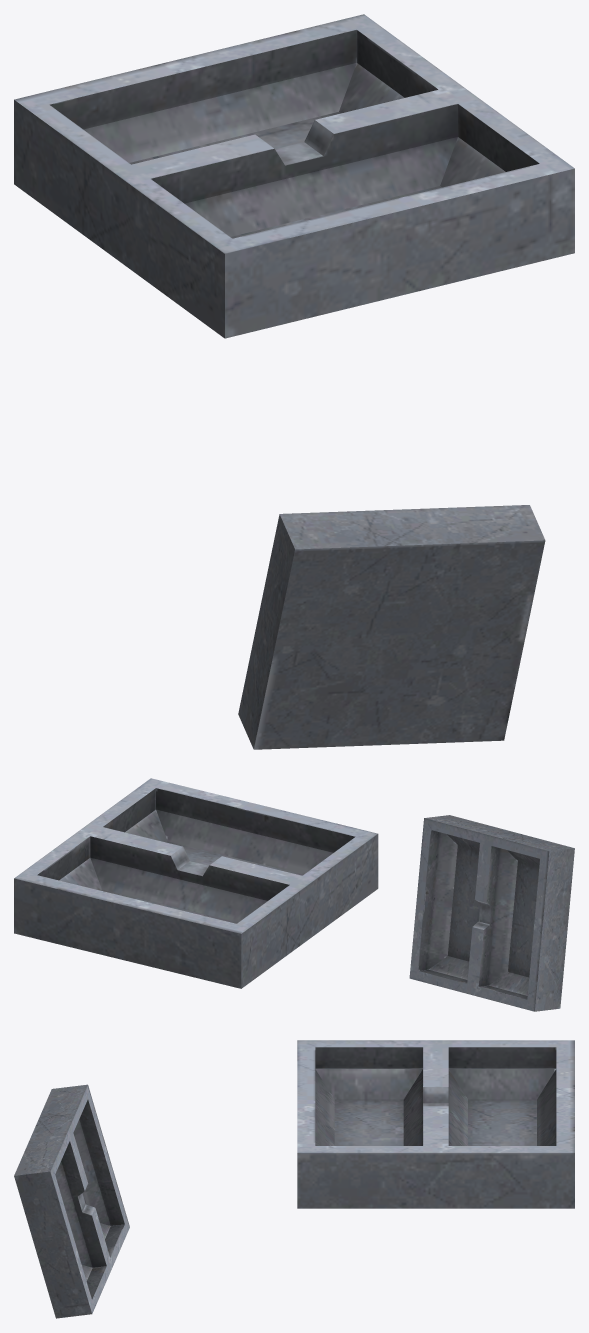
The model's file is DoubleIngotMold.glb.
3 views of the same model, one above another, from view 1: azimuth 30°, elevation 25°; view 2: azimuth 150°, elevation 25°; view 3: azimuth 270°, elevation 25° (orthographic). The views are drawn at different scales.
Visible parts, largest first — view 1: WorldModel, castingmold; view 2: WorldModel, castingmold; view 3: WorldModel, castingmold.
Boxes of the visible parts, left/top/right/bottom form: WorldModel: left=14, top=14, right=574, bottom=338; castingmold: left=238, top=505, right=545, bottom=749; WorldModel: left=14, top=778, right=378, bottom=988; castingmold: left=409, top=815, right=574, bottom=1011; WorldModel: left=297, top=1040, right=574, bottom=1208; castingmold: left=14, top=1084, right=129, bottom=1318.
Size of the model in its own units: 0.7407 by 0.5592 by 1.15.
Materials: 1 (1 with a texture image).
